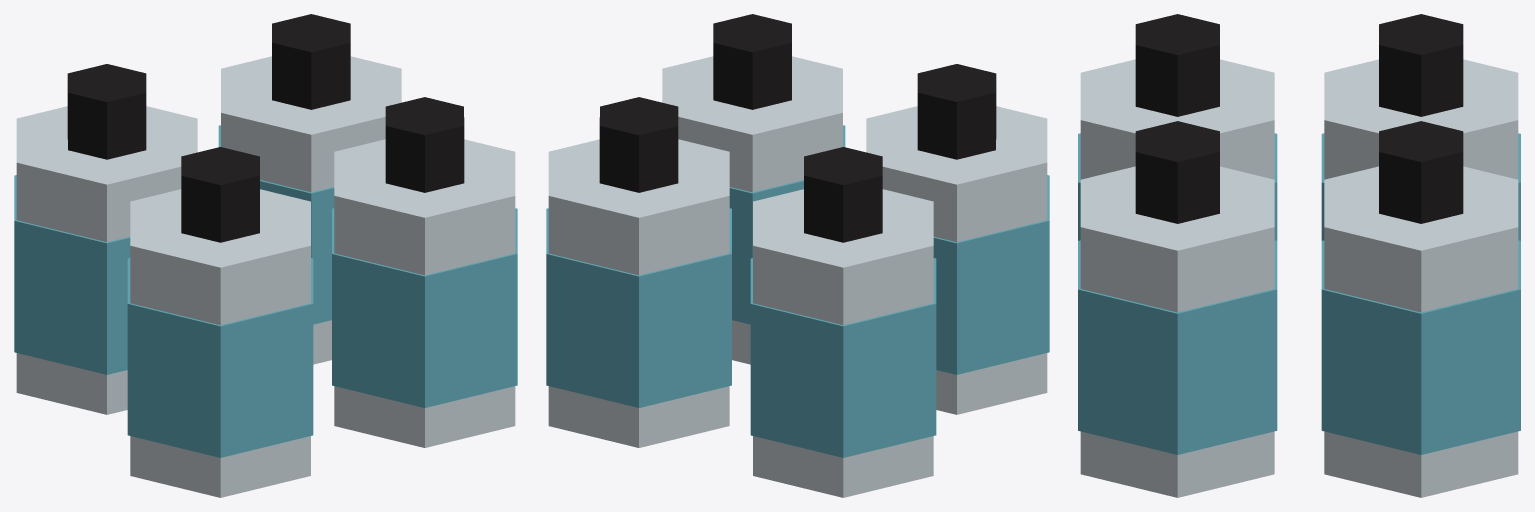
File: item_rm_neutroamine_c.obj
The picture shows the model from 3 angles, left to right: view 1: azimuth 30°, elevation 25°; view 2: azimuth 150°, elevation 25°; view 3: azimuth 270°, elevation 25°; orthographic projection. The views are drawn at different scales.
Size of the model in its own units: 0.6548 by 0.462 by 0.5998.
